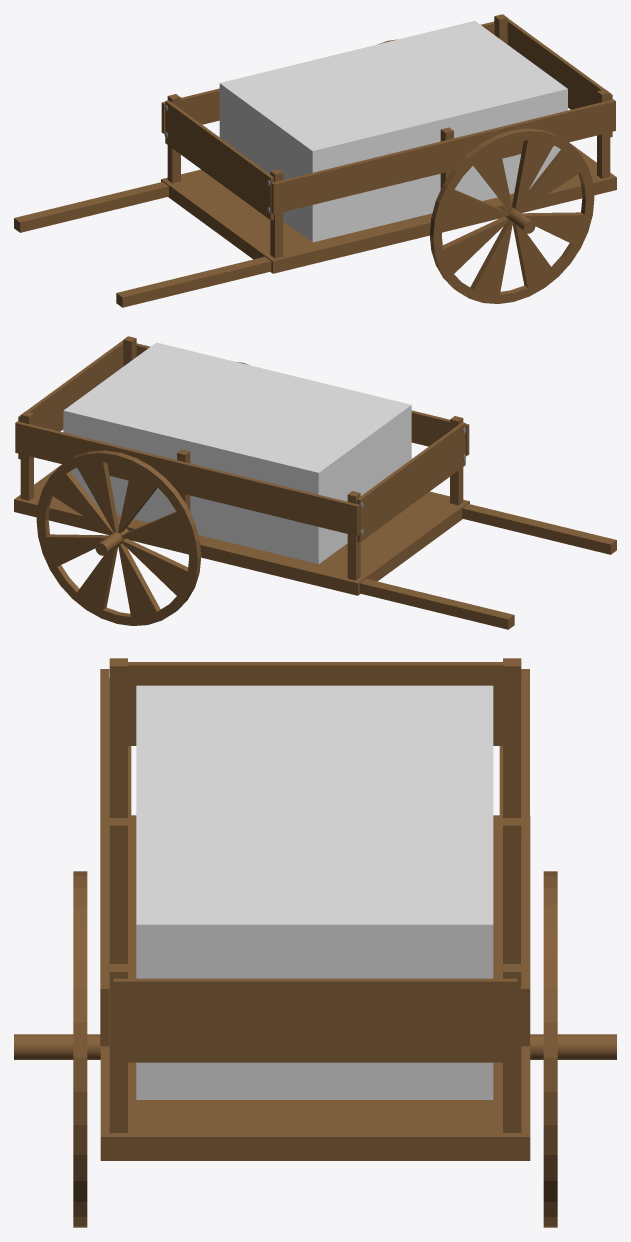
The model's file is GnomeCart.fbx.
The picture shows the model from 3 angles, top to bottom: view 1: azimuth 30°, elevation 25°; view 2: azimuth 150°, elevation 25°; view 3: azimuth 270°, elevation 25°; orthographic projection. The views are drawn at different scales.
Parts seen in each view (by area): view 1: Chest, Cube.002, Wheels; view 2: Chest, Cube.002, Wheels; view 3: Chest, Cube.002, Wheels.
Boxes of the visible parts, x1,y1,x2,y2 form: Chest: [219, 21, 567, 242]; Cube.002: [14, 14, 616, 307]; Wheels: [377, 39, 594, 303]; Chest: [63, 342, 411, 564]; Cube.002: [14, 336, 616, 629]; Wheels: [36, 362, 249, 625]; Chest: [136, 685, 493, 1099]; Cube.002: [14, 658, 616, 1160]; Wheels: [73, 871, 557, 1227].
Bounding box in the file's own units: 611 × 218 × 338.
